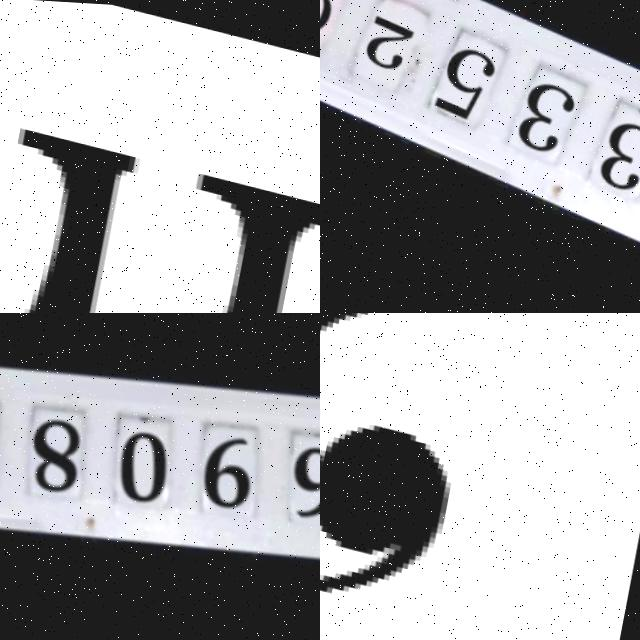0: (103, 407, 188, 521), (320, 0, 353, 63)
2: (320, 313, 624, 640), (347, 0, 430, 101)
3: (504, 61, 589, 170), (585, 97, 640, 211)
5: (425, 26, 510, 138)
6: (275, 423, 320, 530)
8: (15, 400, 99, 508)
9: (187, 413, 272, 523)
M: (0, 73, 320, 313)
